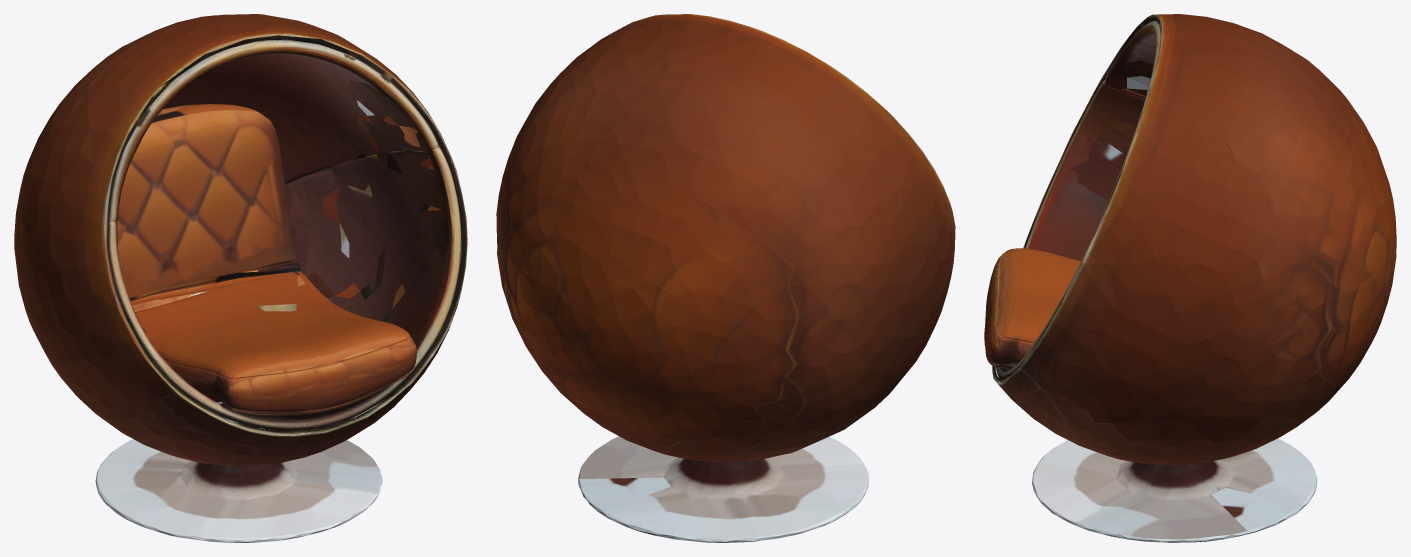
The model's file is edited_mesh.glb.
The picture shows the model from 3 angles, left to right: view 1: azimuth 30°, elevation 25°; view 2: azimuth 150°, elevation 25°; view 3: azimuth 270°, elevation 25°; orthographic projection.
Parts seen in each view (by area): view 1: solid_001_wire; view 2: solid_001_wire; view 3: solid_001_wire.
Boxes of the visible parts, x1,y1,x2,y2 form: solid_001_wire: [14, 14, 467, 542]; solid_001_wire: [496, 14, 955, 542]; solid_001_wire: [984, 14, 1396, 542].
Size of the model in its own units: 1.25 by 1.37 by 1.15.
1 material, 1 textured.
